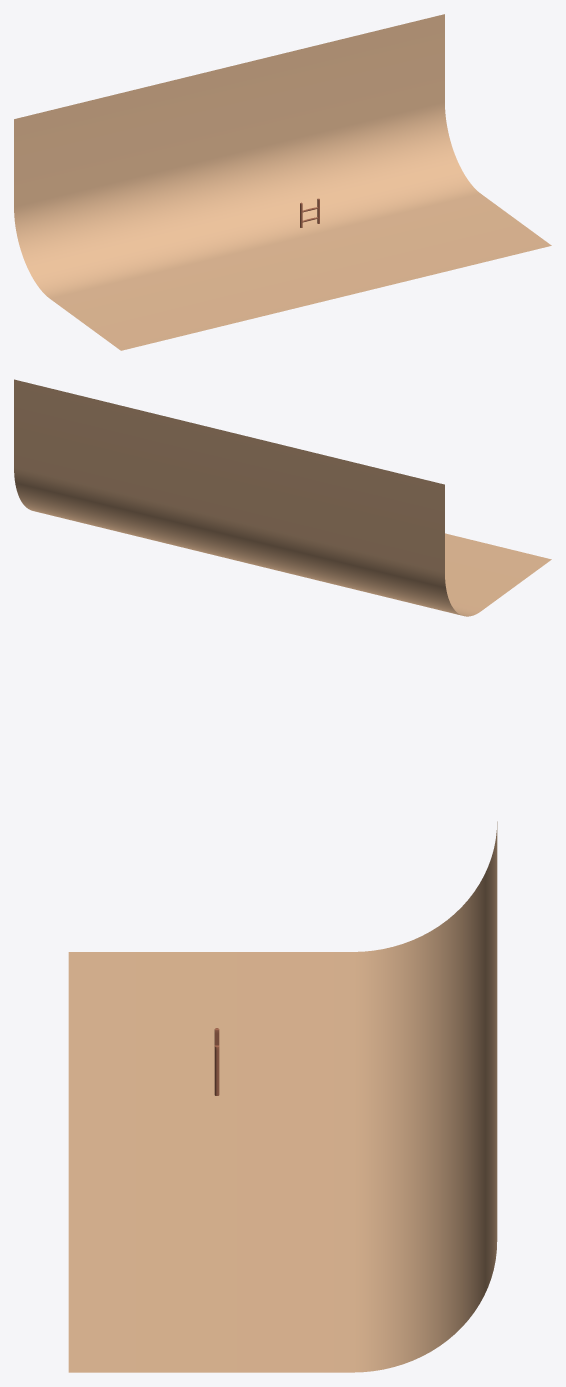
The model's file is Chopped Ladder 2.fbx.
3 views of the same model, one above another, from view 1: azimuth 30°, elevation 25°; view 2: azimuth 150°, elevation 25°; view 3: azimuth 270°, elevation 25° (orthographic). The views are drawn at different scales.
Visible parts, largest first — view 1: Plane; view 2: Plane; view 3: Plane.
Part boxes in pixels (bbox=[...]): Plane: bbox=[14, 14, 551, 350]; Plane: bbox=[14, 379, 551, 616]; Plane: bbox=[68, 821, 497, 1372].
Bounding box in the file's own units: 2153 × 732 × 927.
